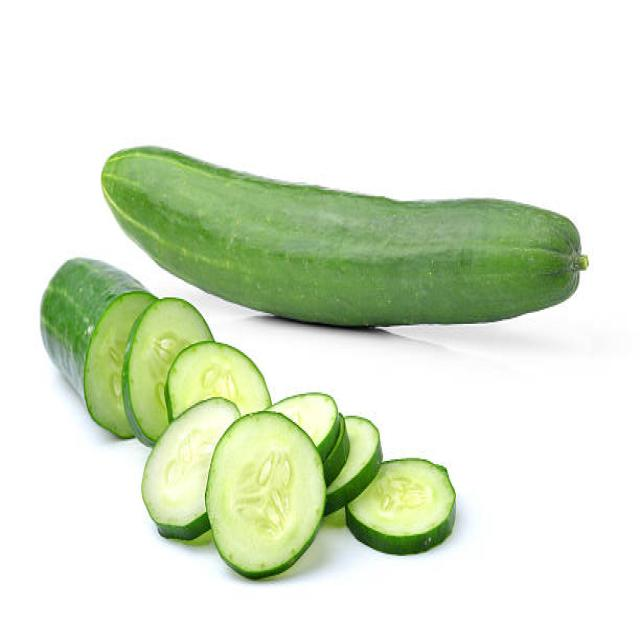cucumber: (100, 145, 582, 329), (38, 252, 162, 439)
